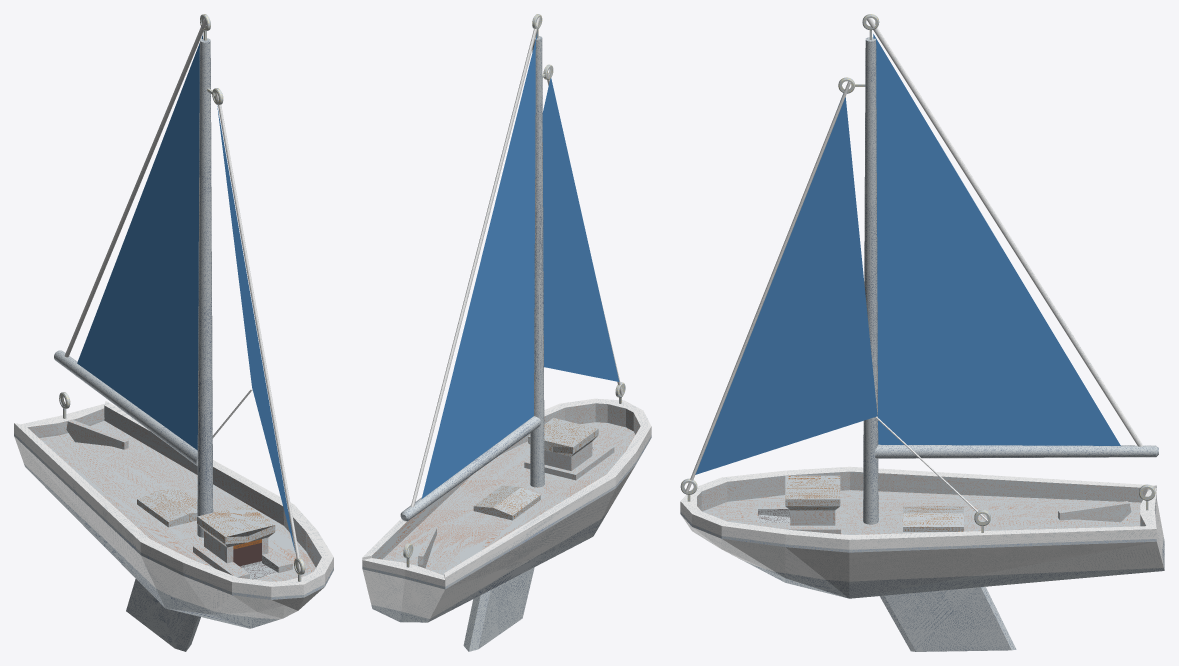
Rendered from Medium Poly Ship Fixed Sails Final.fbx.
The picture shows the model from 3 angles, left to right: view 1: azimuth 30°, elevation 25°; view 2: azimuth 150°, elevation 25°; view 3: azimuth 270°, elevation 25°; orthographic projection. The views are drawn at different scales.
Parts seen in each view (by area): view 1: SketchUp.020, SketchUp.006, SketchUp.007, SketchUp.018, SketchUp.008, SketchUp.022, SketchUp.009, SketchUp.005, SketchUp.021, SketchUp.004, SketchUp.014, SketchUp.012 (+3 smaller); view 2: SketchUp.020, SketchUp.006, SketchUp.022, SketchUp.007, SketchUp.008, SketchUp.018, SketchUp.004, SketchUp.005, SketchUp.009, SketchUp.014, SketchUp.012; view 3: SketchUp.020, SketchUp.022, SketchUp.007, SketchUp.006, SketchUp.008, SketchUp.018, SketchUp.005, SketchUp.004, SketchUp.009, SketchUp.021, SketchUp.012, SketchUp.014 (+1 smaller).
Boxes of the visible parts, <box> form: SketchUp.020: <box>77,35,202,450</box>; SketchUp.006: <box>27,405,321,581</box>; SketchUp.007: <box>14,401,333,619</box>; SketchUp.018: <box>197,38,213,537</box>; SketchUp.008: <box>24,464,279,651</box>; SketchUp.022: <box>217,106,295,551</box>; SketchUp.009: <box>197,504,275,547</box>; SketchUp.005: <box>54,350,197,465</box>; SketchUp.021: <box>216,92,300,572</box>; SketchUp.004: <box>64,19,206,357</box>; SketchUp.014: <box>137,488,197,527</box>; SketchUp.012: <box>14,433,333,599</box>; SketchUp.020: <box>421,34,537,498</box>; SketchUp.006: <box>372,403,640,575</box>; SketchUp.022: <box>542,78,619,381</box>; SketchUp.007: <box>362,398,651,618</box>; SketchUp.008: <box>371,511,608,651</box>; SketchUp.018: <box>530,36,544,487</box>; SketchUp.004: <box>411,17,540,507</box>; SketchUp.005: <box>400,416,540,521</box>; SketchUp.009: <box>528,418,598,456</box>; SketchUp.014: <box>473,485,540,520</box>; SketchUp.012: <box>362,435,651,589</box>; SketchUp.020: <box>873,34,1120,445</box>; SketchUp.022: <box>695,93,877,474</box>; SketchUp.007: <box>680,466,1163,581</box>; SketchUp.006: <box>697,471,1147,534</box>; SketchUp.008: <box>731,537,1164,651</box>; SketchUp.018: <box>863,37,878,524</box>; SketchUp.005: <box>875,444,1158,458</box>; SketchUp.004: <box>867,18,1143,446</box>; SketchUp.009: <box>785,475,840,510</box>; SketchUp.021: <box>685,81,850,492</box>; SketchUp.012: <box>680,498,1156,552</box>; SketchUp.014: <box>903,506,963,531</box>.
Size of the model in its own units: 271 by 1098 by 758.
